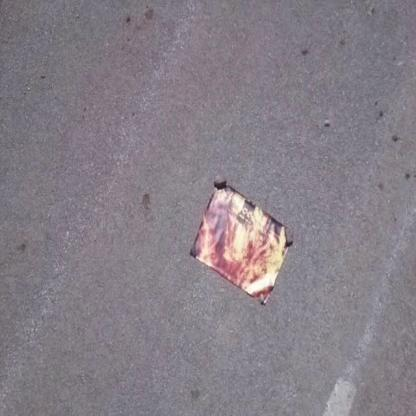fire-poster: (188, 178, 292, 307)
